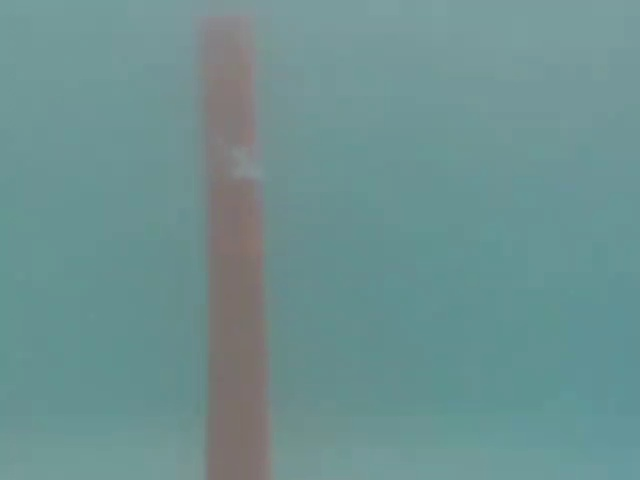flare: (177, 8, 290, 480)
